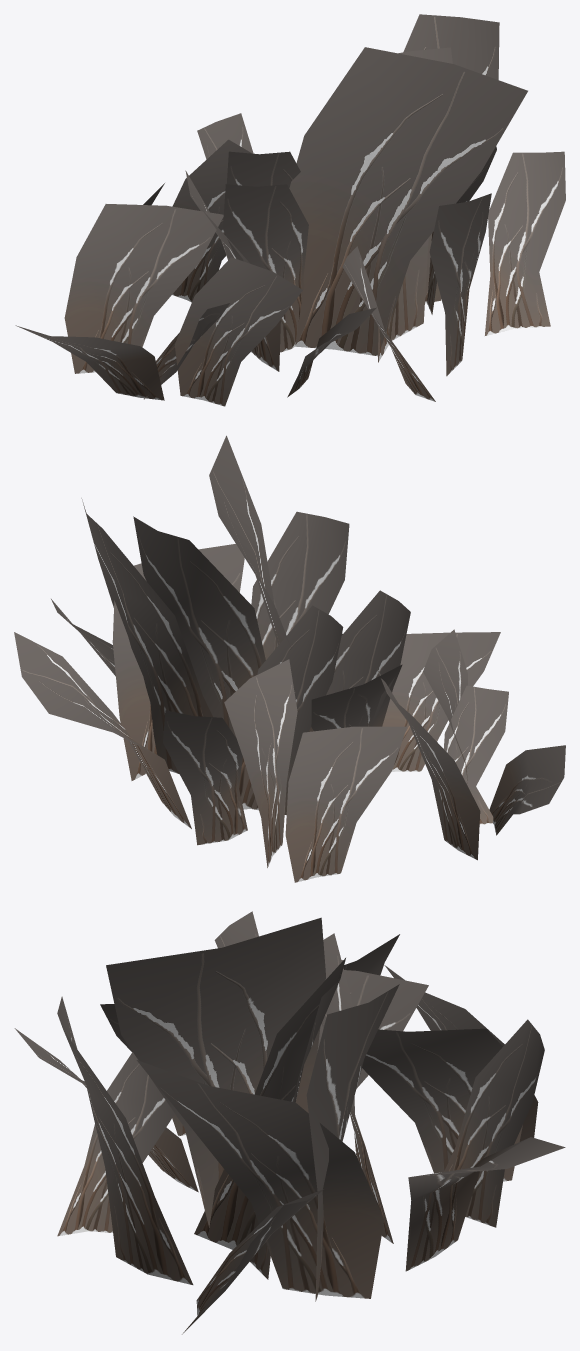
The model's file is Grass_A_Group_03.FBX.
3 renders of one model, top to bottom at view 1: azimuth 30°, elevation 25°; view 2: azimuth 150°, elevation 25°; view 3: azimuth 270°, elevation 25°, orthographic. The views are drawn at different scales.
Visible parts, largest first — view 1: Grass_A_Group_03; view 2: Grass_A_Group_03; view 3: Grass_A_Group_03.
Boxes of the visible parts, x1,y1,x2,y2 form: Grass_A_Group_03: (15,14,565,406); Grass_A_Group_03: (14,435,565,882); Grass_A_Group_03: (14,911,565,1334).
Size of the model in its own units: 170 by 83.25 by 123.
